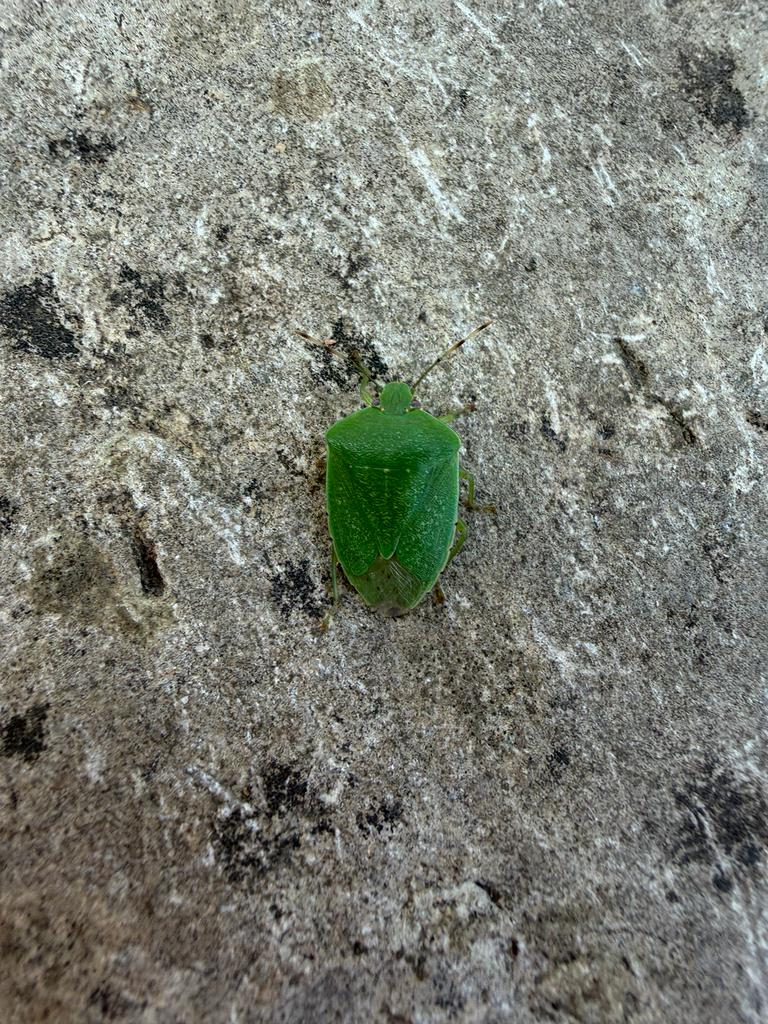stink_bugs: (239, 277, 534, 670)
